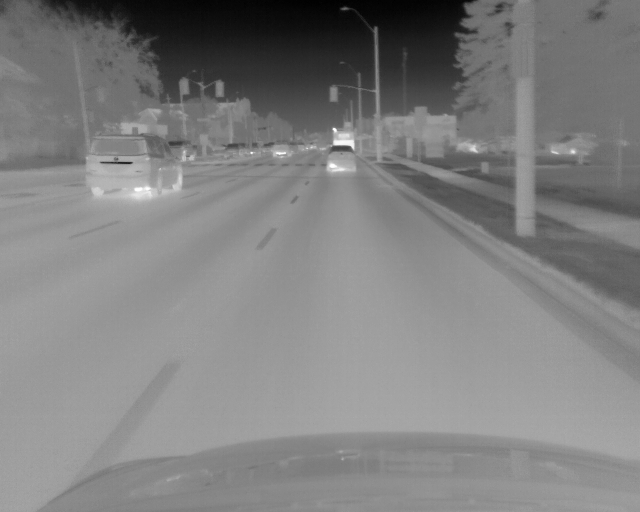car: (85, 133, 182, 198), (326, 145, 355, 174), (166, 140, 198, 162), (332, 126, 355, 151), (224, 143, 244, 160), (271, 141, 292, 157), (248, 141, 266, 157)
